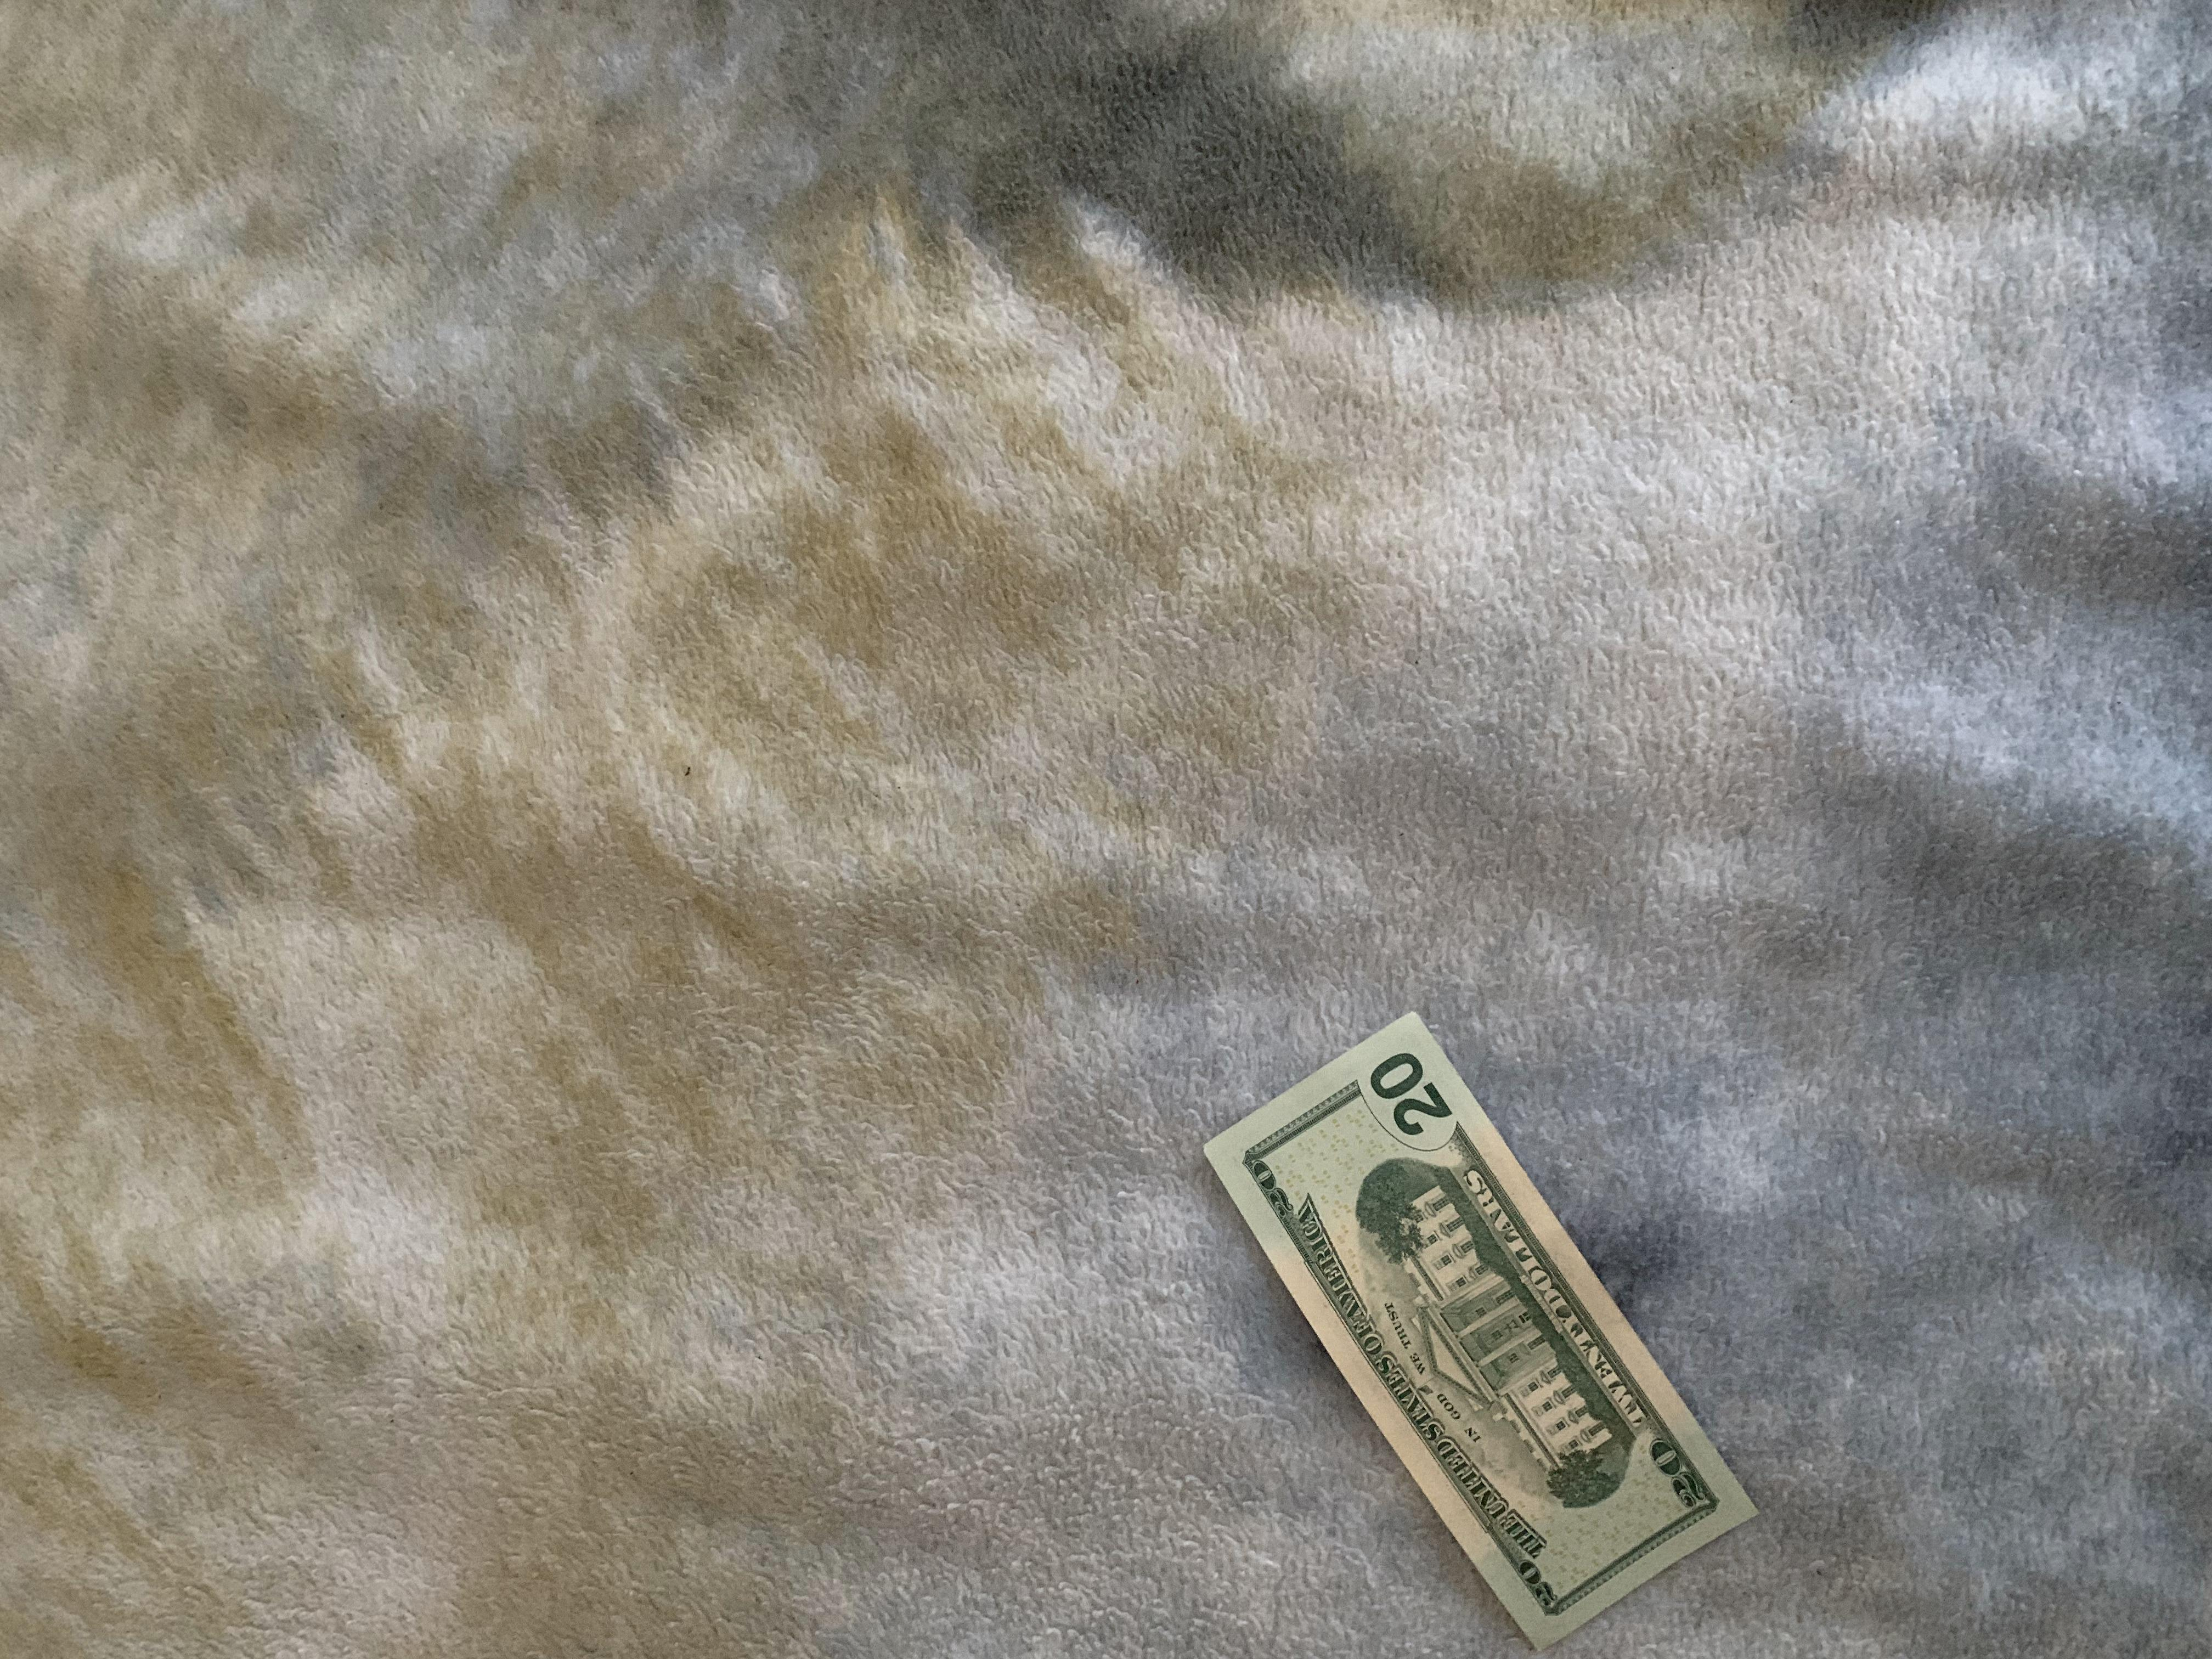TwentyBill: (1200, 1006, 1766, 1656)
